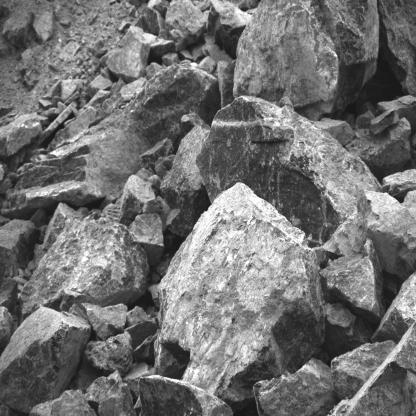stone: (157, 182, 326, 412), (196, 95, 382, 248), (85, 63, 220, 199), (233, 0, 379, 121), (19, 216, 149, 320), (0, 307, 91, 416), (319, 238, 386, 324), (253, 358, 339, 416), (138, 375, 234, 416), (99, 25, 151, 82), (82, 330, 134, 378), (0, 112, 43, 162), (165, 0, 207, 51), (119, 174, 156, 228), (129, 213, 164, 248), (369, 108, 399, 136)
